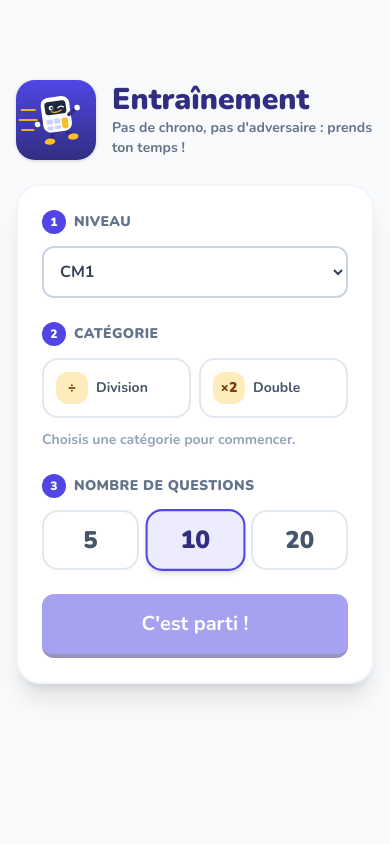
PracticePage › preselects the player level and asks for a notion only when needed
Expected: the dropdown named "Niveau" shows "CM1", [42,246,348,298]
Expected: the button "C'est parti !" is disabled, [42,594,348,658]
Click the button "÷ Division" at (116, 388), box [42,358,191,418]
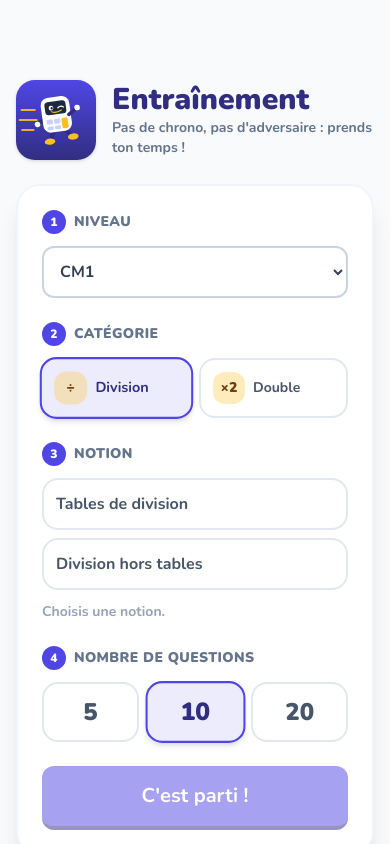
Expected: the button "C'est parti !" is disabled, [42,766,348,830]
Result: the text "Choisis une notion." is shown at [42,602,165,621]
Click the button "Tables de division" at (122, 504), box [42,478,348,530]
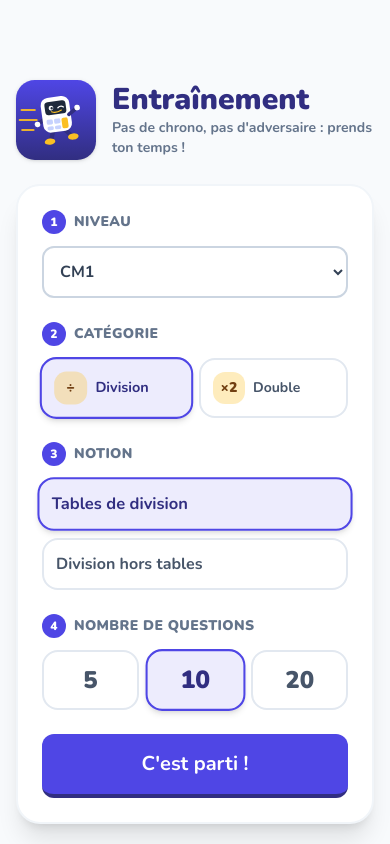
Result: the button "C'est parti !" is enabled at [42,734,348,798]
Click the button "×2 Double" at (274, 388), box [199,358,348,418]
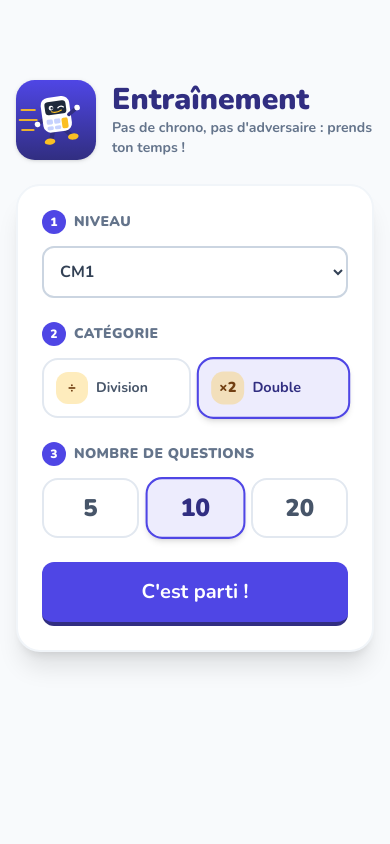
Result: the button "C'est parti !" is enabled at [42,562,348,626]
Result: the heading "Notion" is gone
